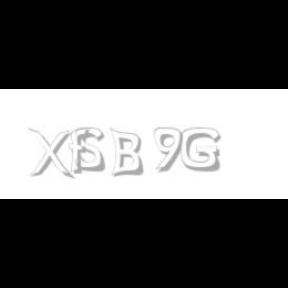9: (154, 128, 182, 172)
B: (109, 128, 143, 178)
G: (180, 128, 220, 172)
S: (76, 128, 106, 172)
X: (28, 128, 72, 180)
f: (69, 128, 93, 174)
